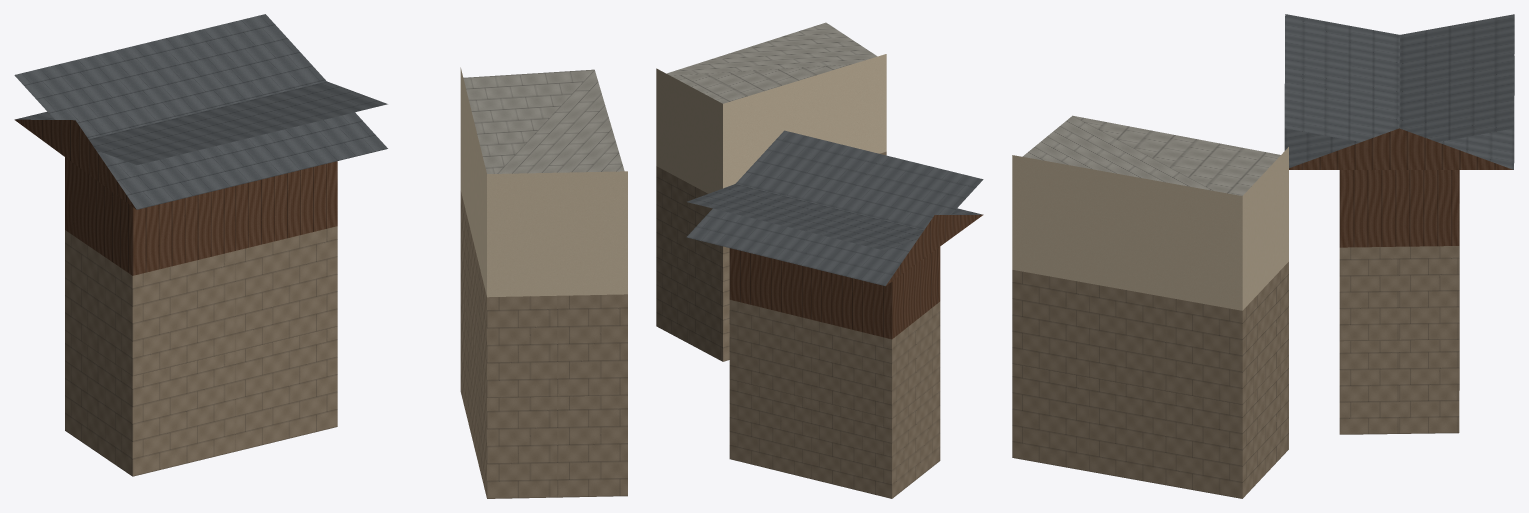
The model's file is bld_c6_8_486.gltf.
3 views of the same model, side by side, from view 1: azimuth 30°, elevation 25°; view 2: azimuth 150°, elevation 25°; view 3: azimuth 270°, elevation 25° (orthographic). The views are drawn at different scales.
Visible parts, largest first — view 1: bld_c6_8_486; view 2: bld_c6_8_486; view 3: bld_c6_8_486.
Boxes of the visible parts, x1,y1,x2,y2 form: bld_c6_8_486: [14, 14, 627, 498]; bld_c6_8_486: [656, 22, 983, 498]; bld_c6_8_486: [1012, 14, 1514, 498].
Bounding box in the file's own units: 10.2 × 7.98 × 10.94.
Materials: 7 (7 with a texture image).
